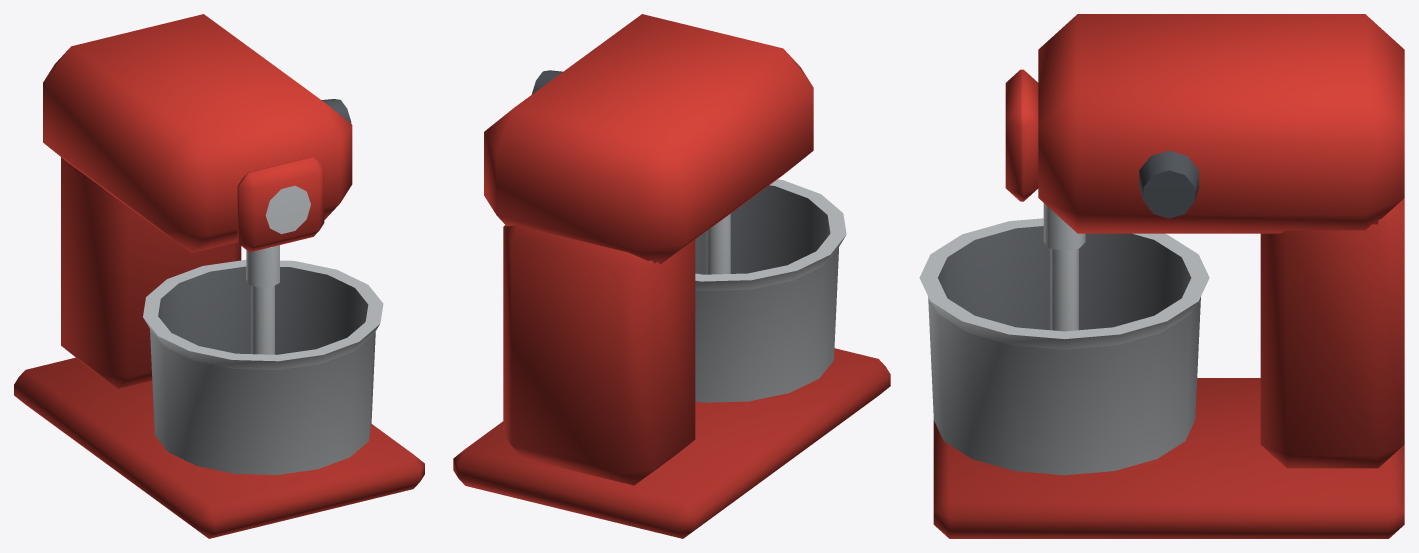
The model's file is StandMixer_01.glb.
3 renders of one model, left to right at view 1: azimuth 30°, elevation 25°; view 2: azimuth 150°, elevation 25°; view 3: azimuth 270°, elevation 25°, orthographic. The views are drawn at different scales.
Parts seen in each view (by area): view 1: SM_StandMixer_01; view 2: SM_StandMixer_01; view 3: SM_StandMixer_01.
Boxes of the visible parts, bbox=[...] form: SM_StandMixer_01: bbox=[14, 14, 424, 538]; SM_StandMixer_01: bbox=[453, 14, 890, 538]; SM_StandMixer_01: bbox=[919, 14, 1404, 538].
Bounding box in the file's own units: 0.248 × 0.36 × 0.371.
1 material, 1 textured.
